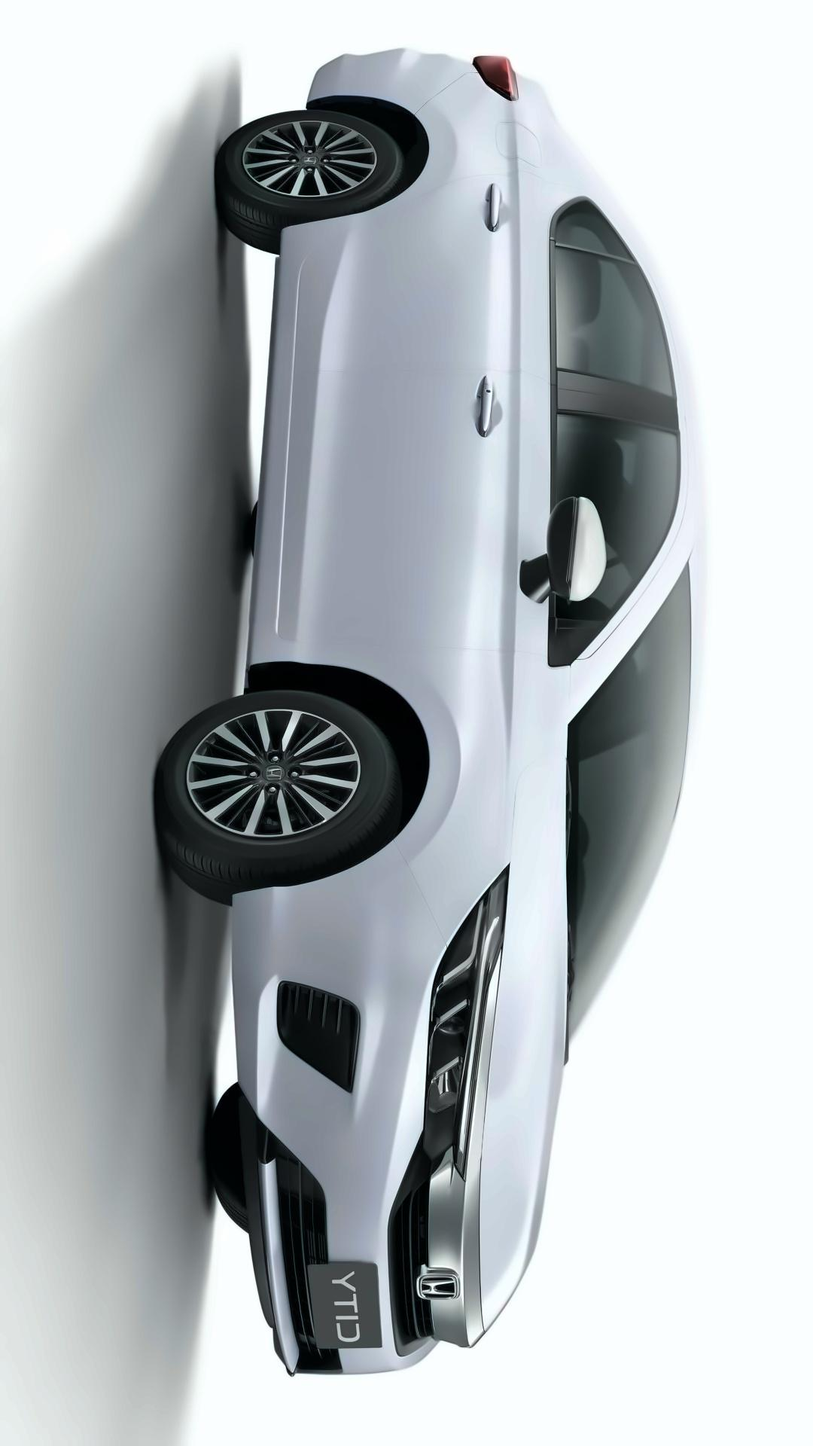Car hood: (464, 678, 594, 1338)
Driver-s door - -F-R-: (219, 347, 716, 702)
Fender - -F-R-: (178, 618, 603, 932)
Fender - -R-R-: (273, 85, 647, 269)
Front bumper: (193, 859, 458, 1381)
Headlight - -R-: (411, 871, 515, 1171)
Passenger-s door - -R-R-: (224, 181, 719, 421)
Rear bumper: (299, 43, 475, 122)
Rear light - -R-: (475, 53, 522, 104)
Side bumper - -R-: (231, 189, 386, 684)
Side mirror - -R-: (507, 495, 605, 609)
